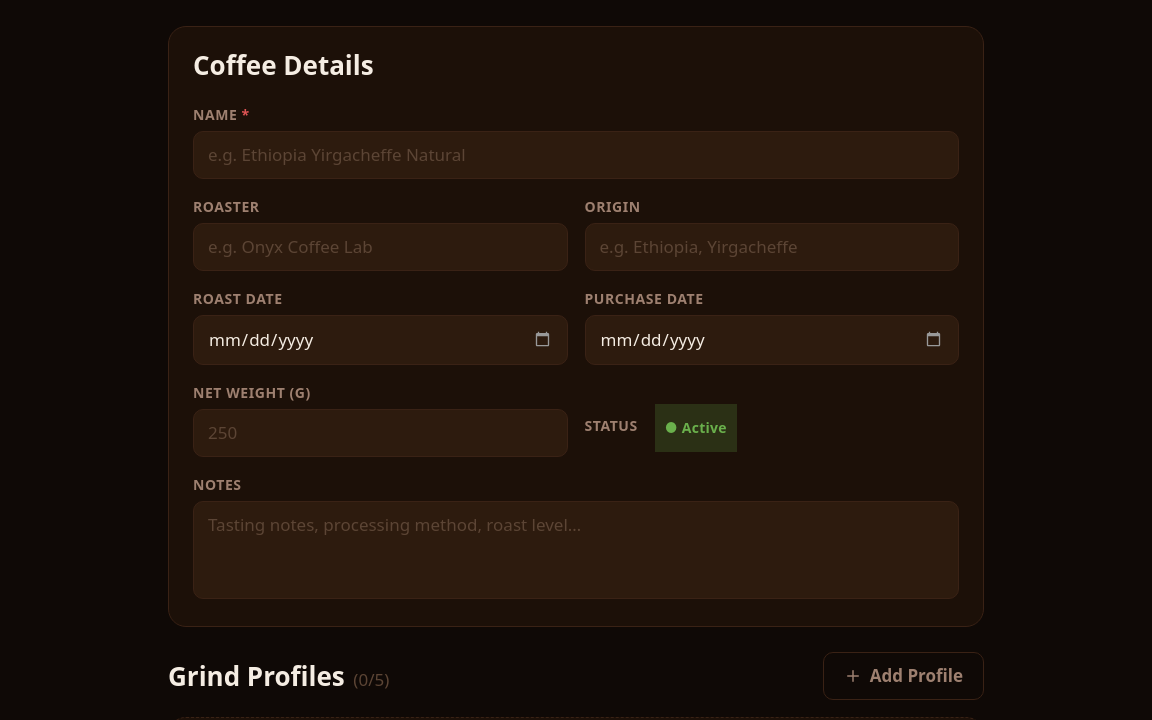
CoffeeForm › grind profiles › hides Add Profile button after 5 profiles are added
The width and height of the screenshot is (1152, 720).
Click the button "Add Profile" at [903, 676], box [823, 652, 984, 700]
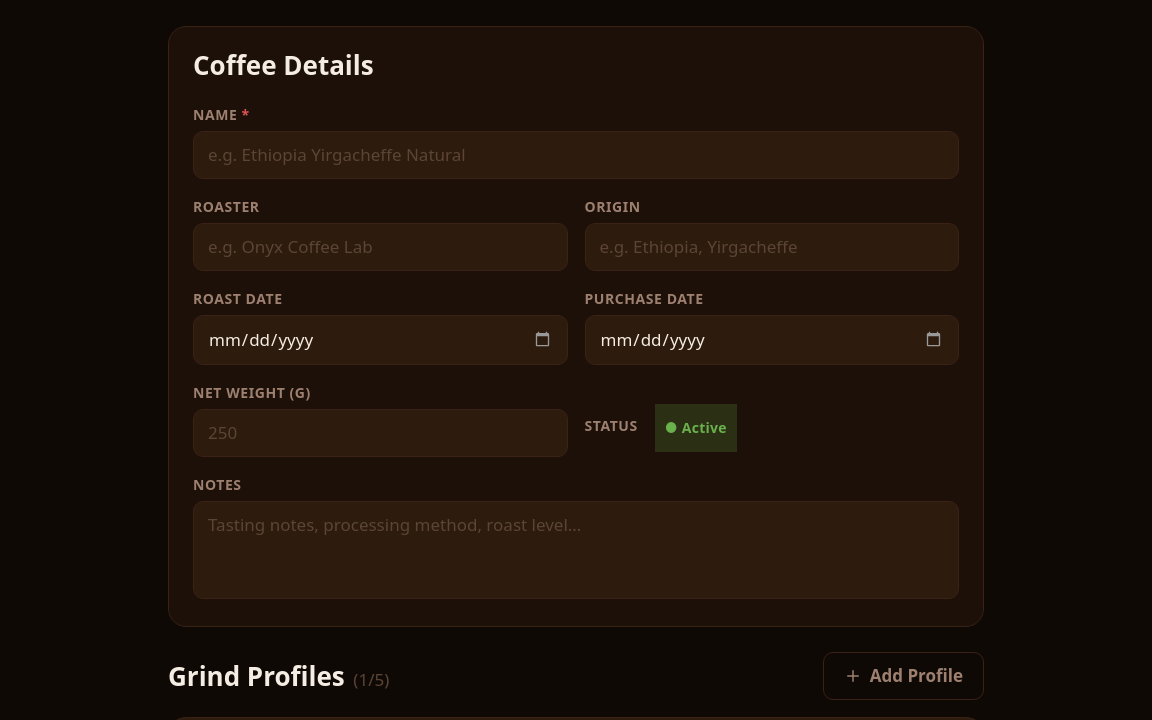
Click the button "Add Profile" at [903, 676], box [823, 652, 984, 700]
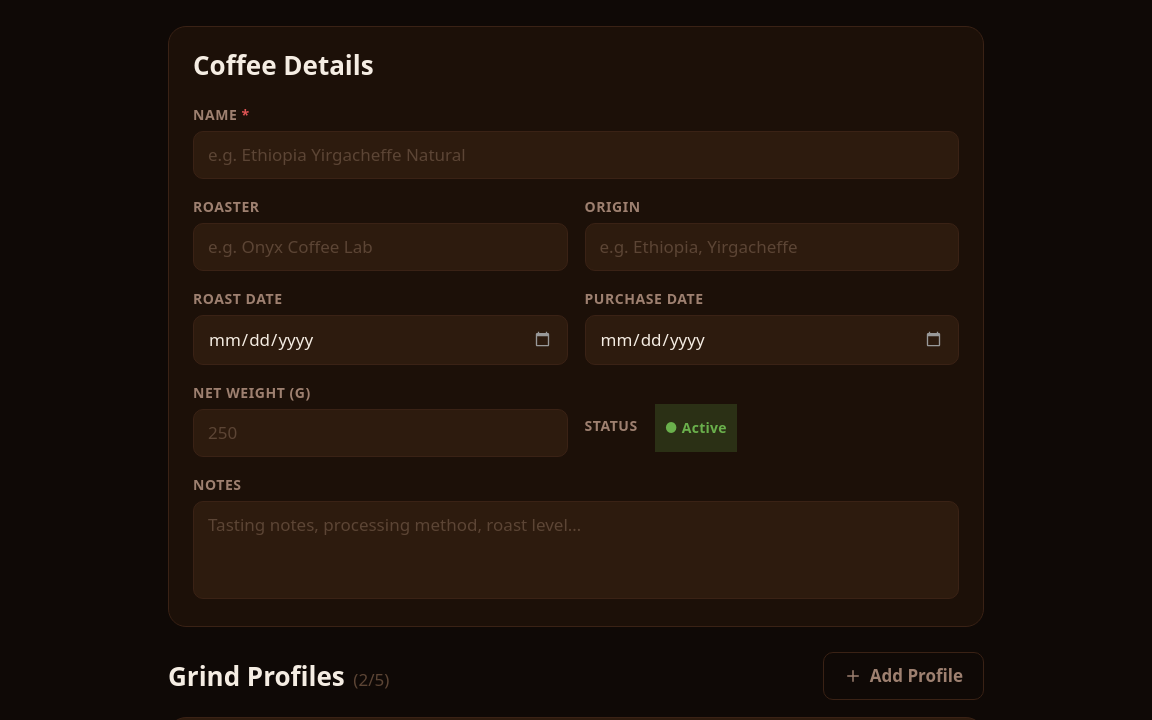
Click the button "Add Profile" at [903, 676], box [823, 652, 984, 700]
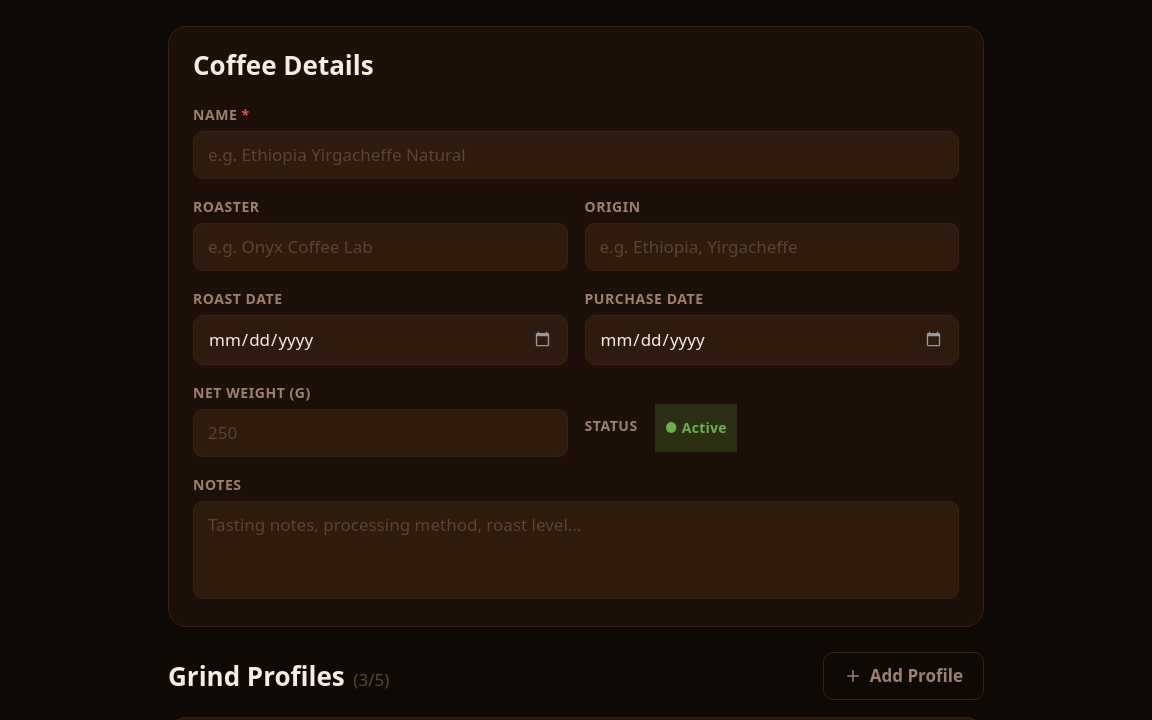
Click the button "Add Profile" at [903, 676], box [823, 652, 984, 700]
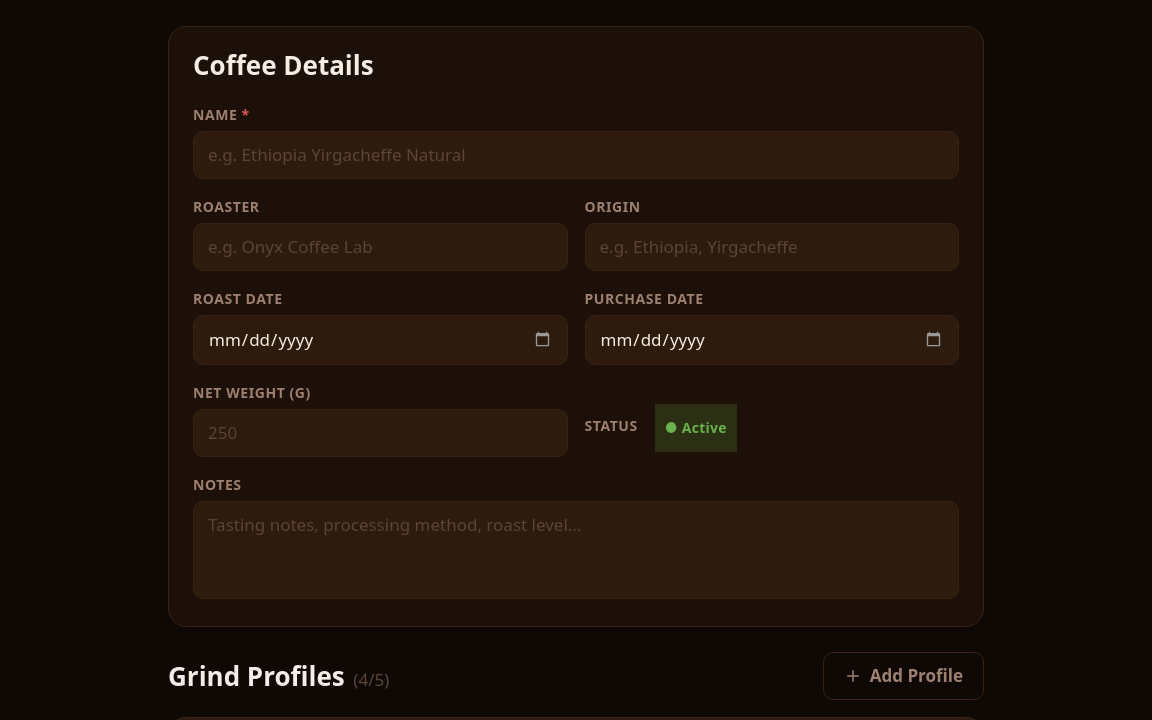
Click the button "Add Profile" at [903, 676], box [823, 652, 984, 700]
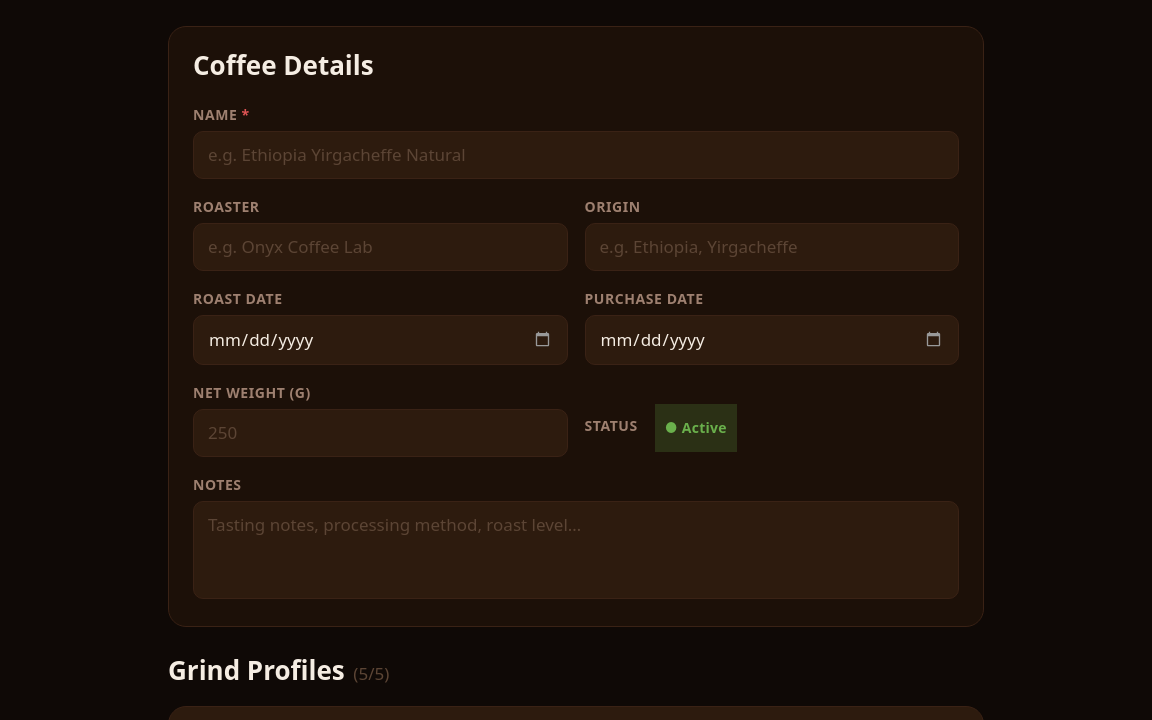
Check: the button "Add Profile" is gone
